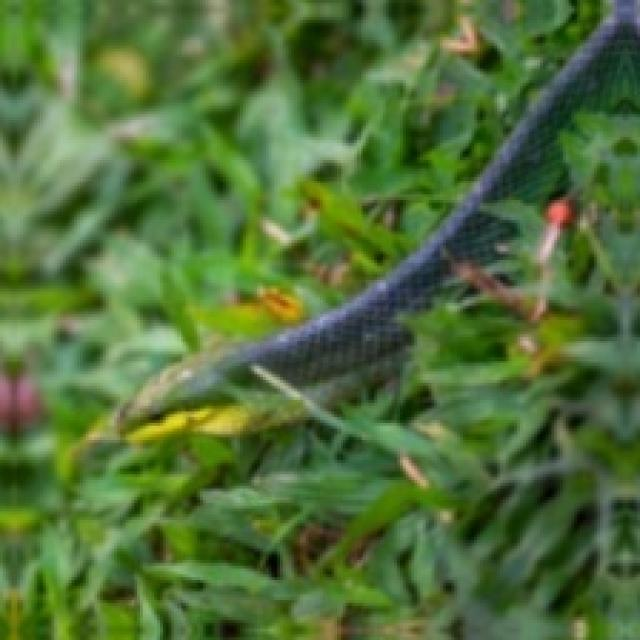red-tailed green ratsnake: (108, 1, 640, 443), (111, 0, 637, 431)
